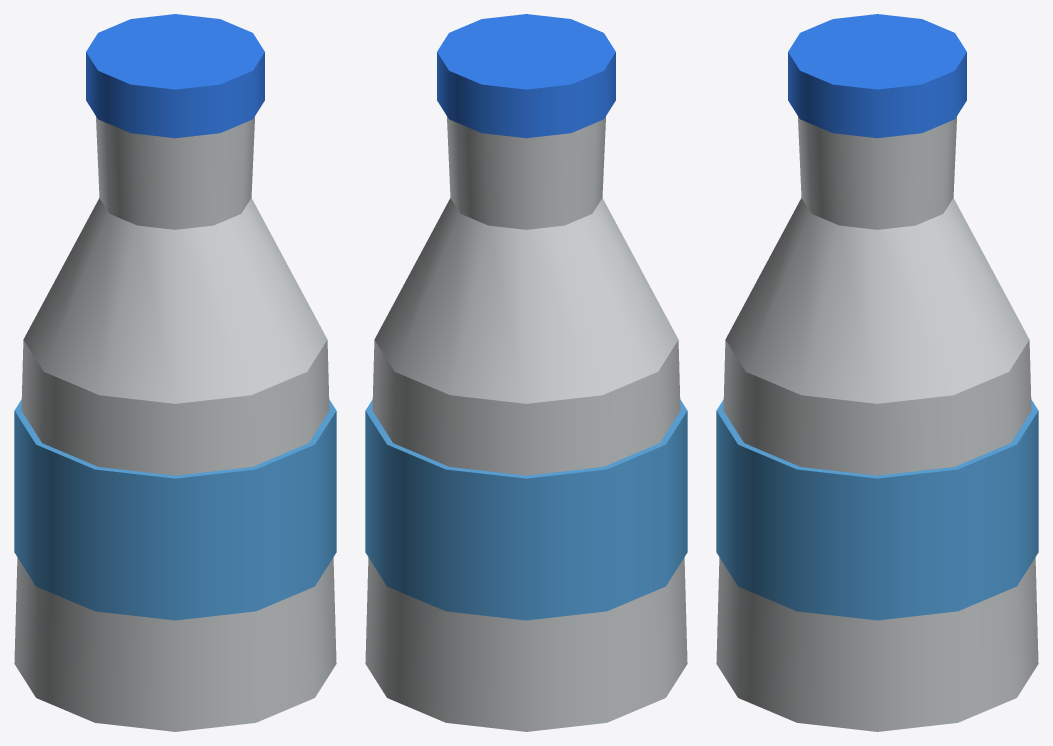
The model's file is food_sut.glb.
3 views of the same model, side by side, from view 1: azimuth 30°, elevation 25°; view 2: azimuth 150°, elevation 25°; view 3: azimuth 270°, elevation 25° (orthographic).
Visible parts, largest first — view 1: FoodNode_sut; view 2: FoodNode_sut; view 3: FoodNode_sut.
Part boxes in pixels (box(x1,y1,x2,y2)): FoodNode_sut: box(14, 14, 336, 731); FoodNode_sut: box(365, 14, 687, 731); FoodNode_sut: box(716, 14, 1038, 731).
Size of the model in its own units: 0.144 by 0.302 by 0.144.
